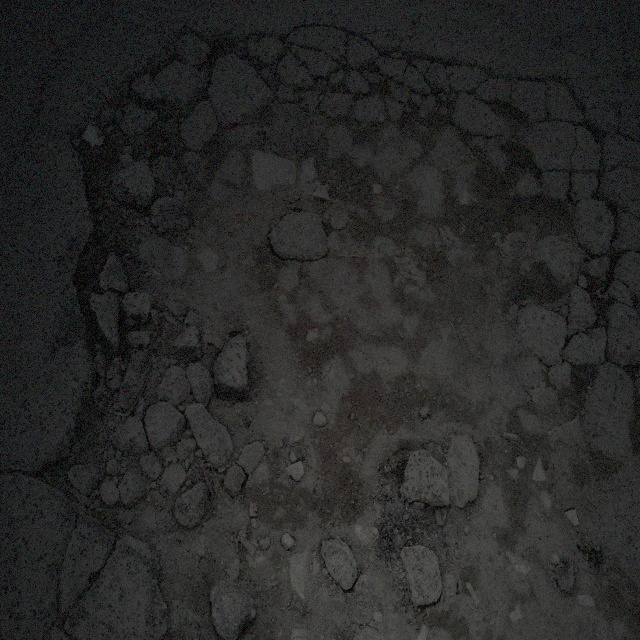pothole: (66, 24, 615, 611)
